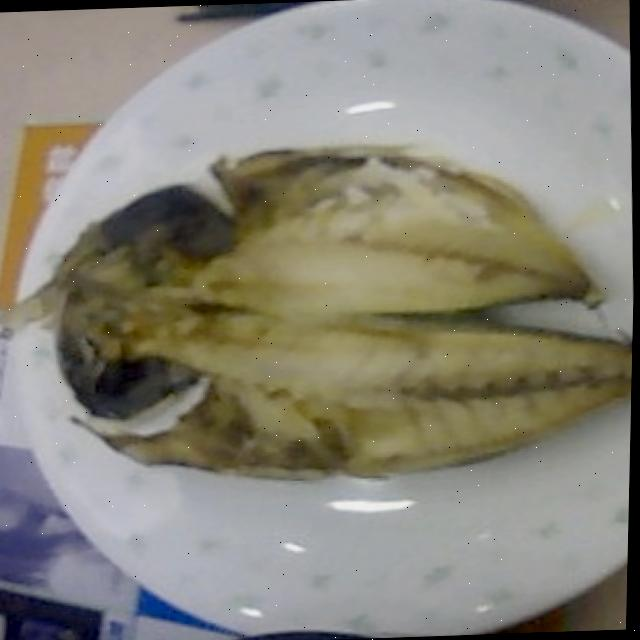熟制海鲜: (0, 70, 639, 632)
